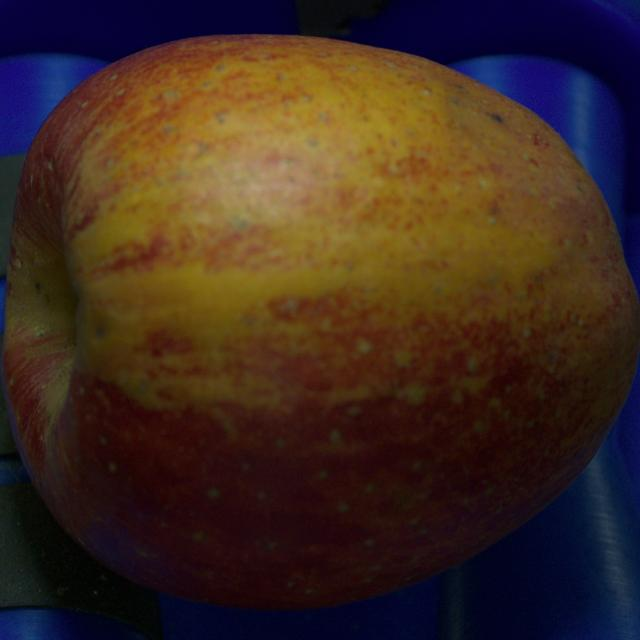apple: (2, 35, 639, 608)
pest: (490, 114, 502, 122)
